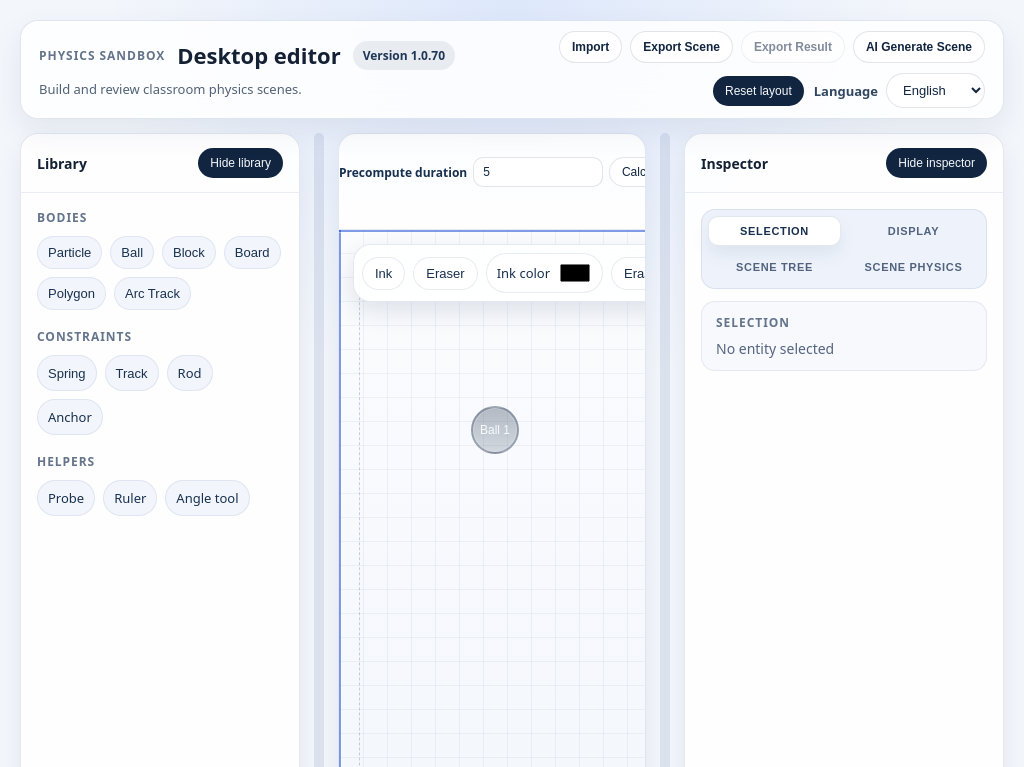
Test case: App selection sync › updates entity positions after dragging in the workspace
Press the mouse on the button with test id "scene-entity-ball-1": (495, 430) [471,406,519,454]
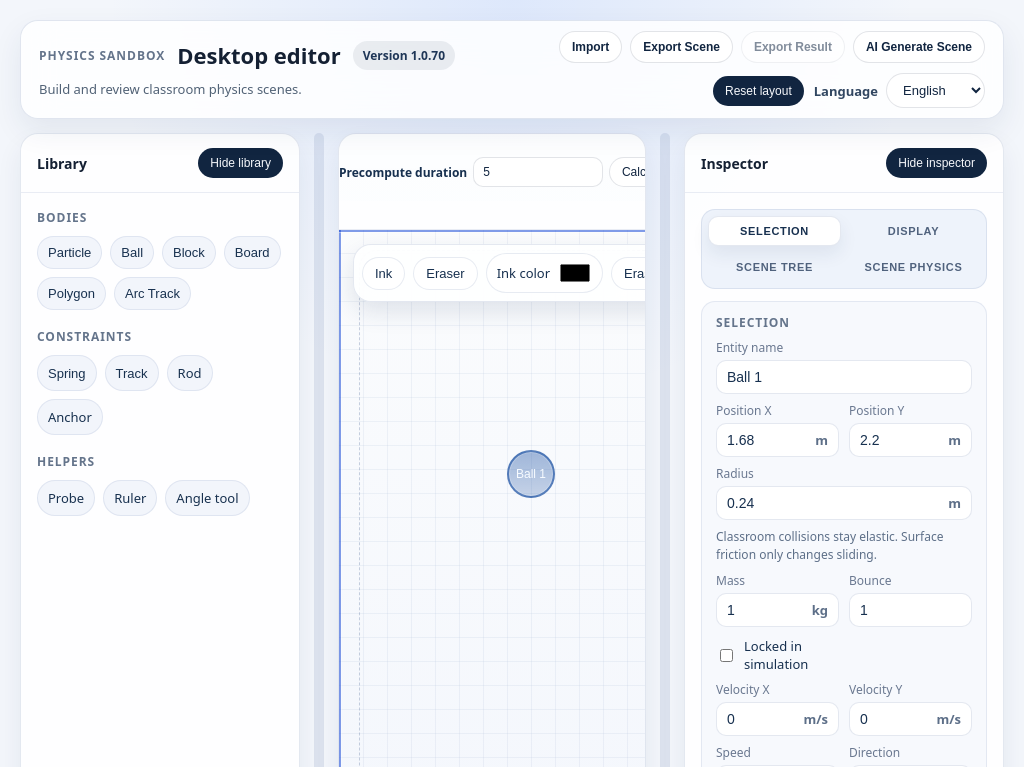
Result: the number field labelled "Position X" holds "1.68" at [727,424,807,456]
Result: the number field labelled "Position Y" holds "2.2" at [860,424,940,456]
